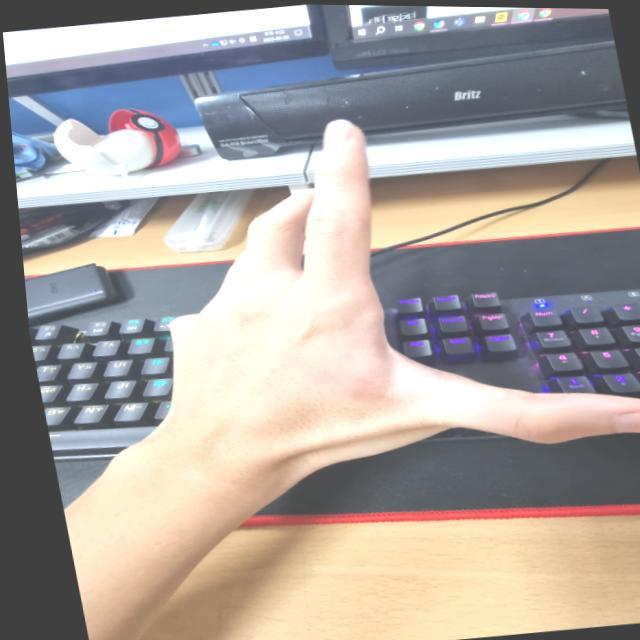keyboard-with-hands: (28, 288, 640, 458)
